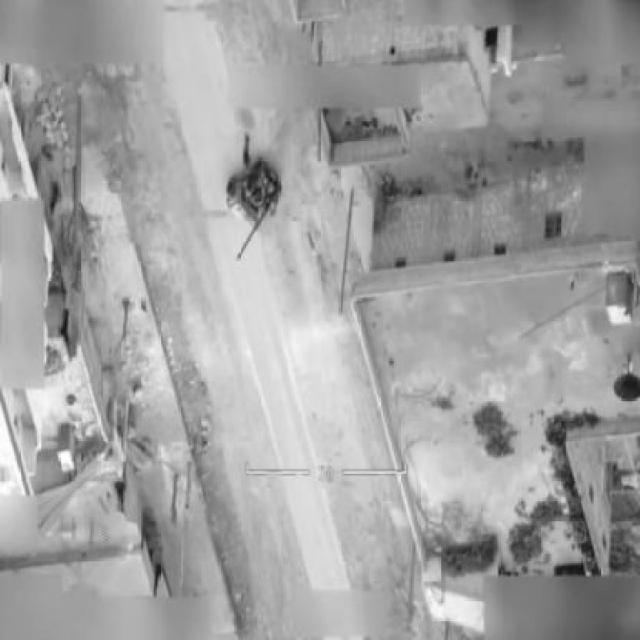Person: (240, 134, 253, 179)
Vehicle: (226, 164, 283, 233)
